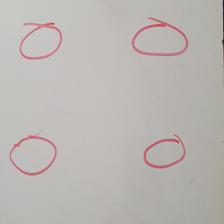generic-sbgn: (132, 17, 188, 56), (10, 135, 58, 176), (20, 22, 61, 60), (144, 135, 186, 168)
